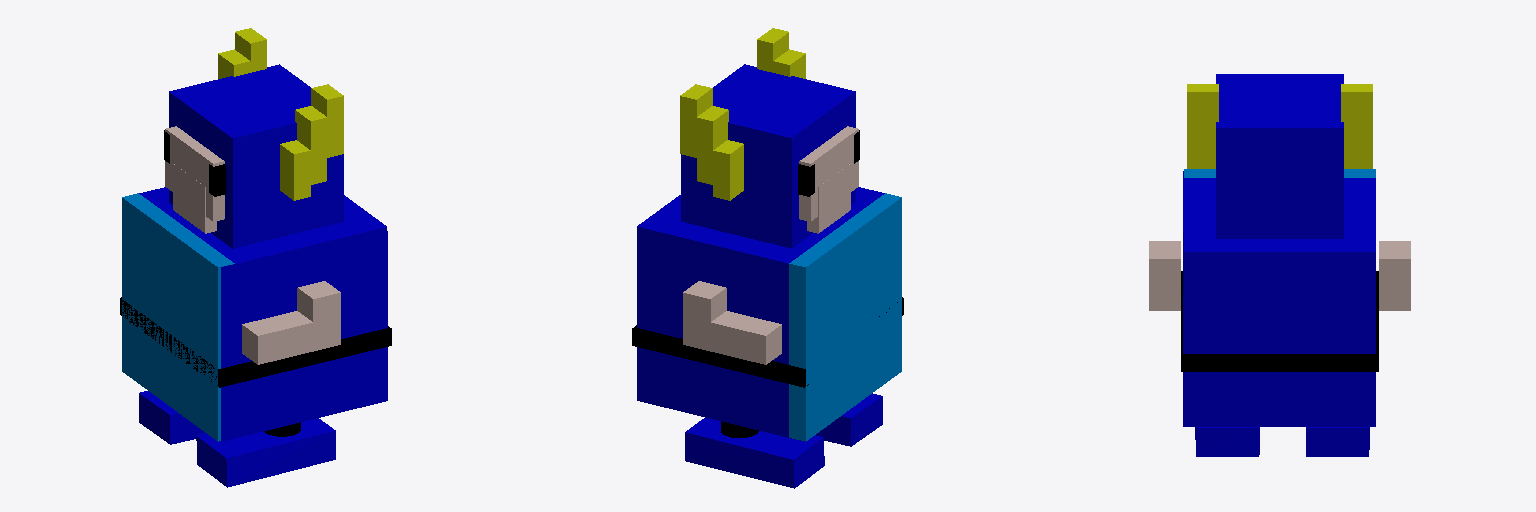
The model's file is yuusya.obj.
3 renders of one model, left to right at view 1: azimuth 30°, elevation 25°; view 2: azimuth 150°, elevation 25°; view 3: azimuth 270°, elevation 25°, orthographic.
Visible parts, largest first — view 1: obj1; view 2: obj1; view 3: obj1.
Part boxes in pixels (x1,y1,x2,y2): obj1: (120,28,391,487); obj1: (632,28,903,488); obj1: (1149,74,1410,456).
Size of the model in its own units: 31 by 63.35 by 41.